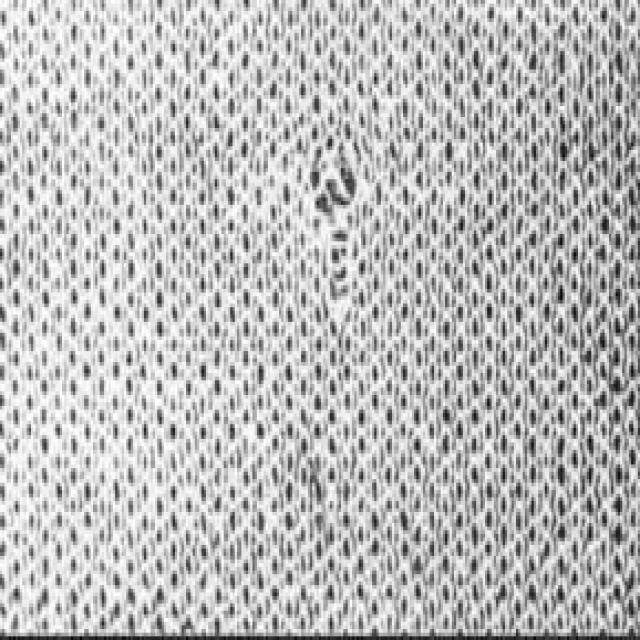seam: (305, 152, 364, 214)
